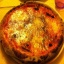pizza: (1, 6, 61, 59)
